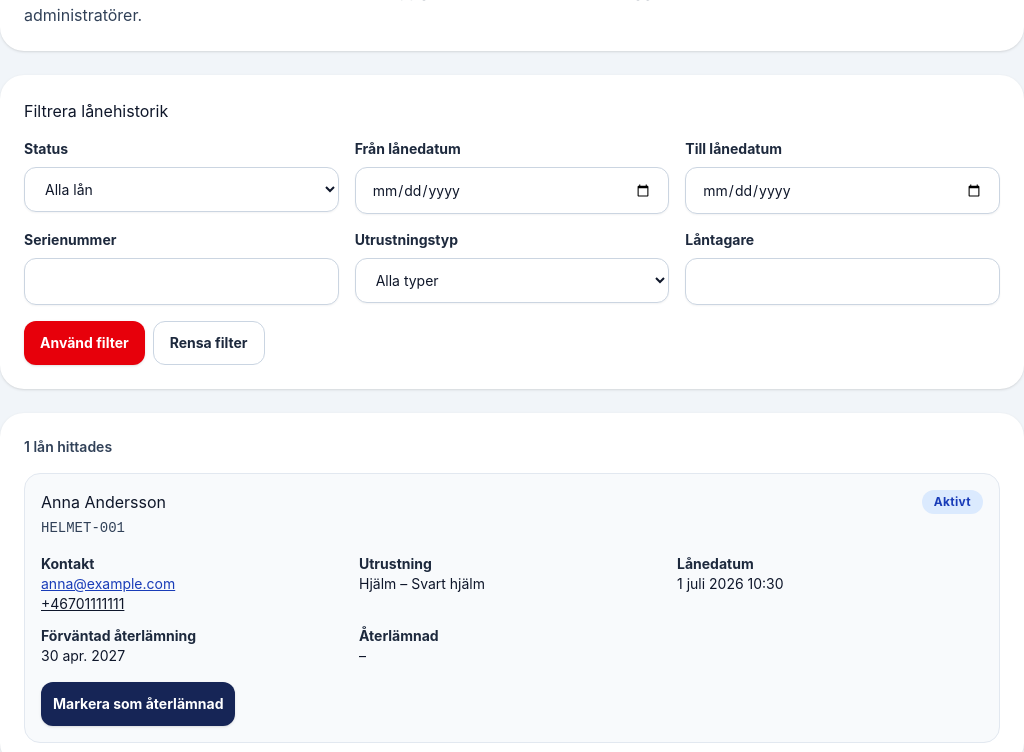
ActiveLoansPage › normalizes return error, closes dialog and focuses alert
(page scrolled)
Expected: the heading "Anna Andersson" is shown, [41, 490, 166, 514]
Click the button "Markera som återlämnad": click(138, 704) [41, 682, 236, 726]
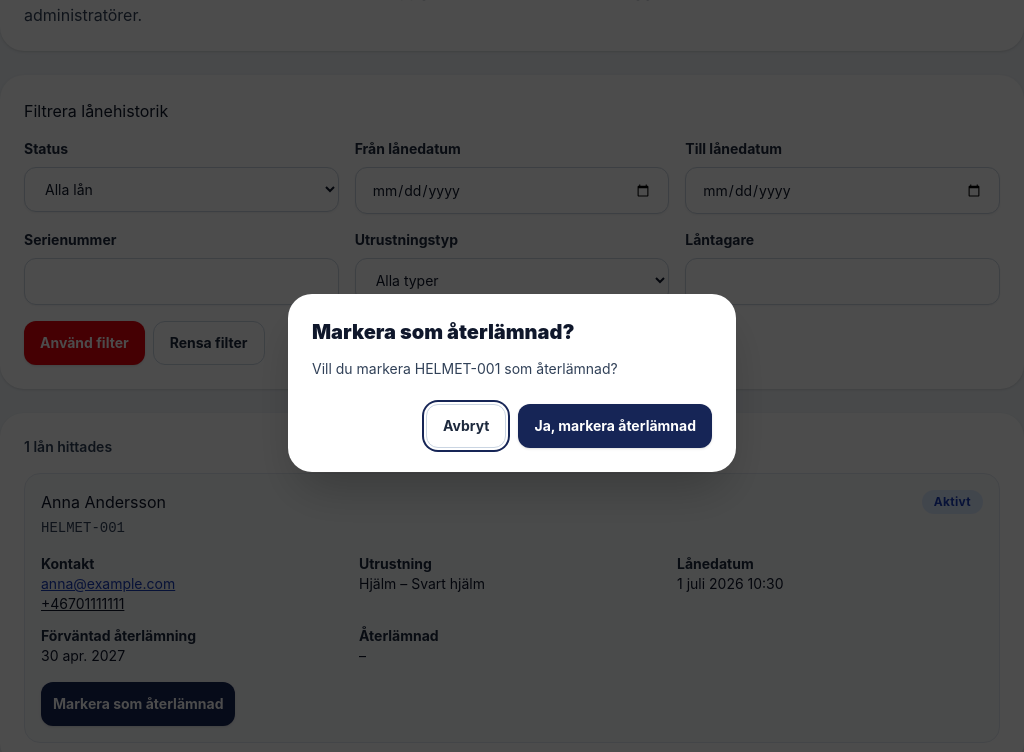
Click the button "Ja, markera återlämnad": click(615, 426) [518, 404, 712, 448]
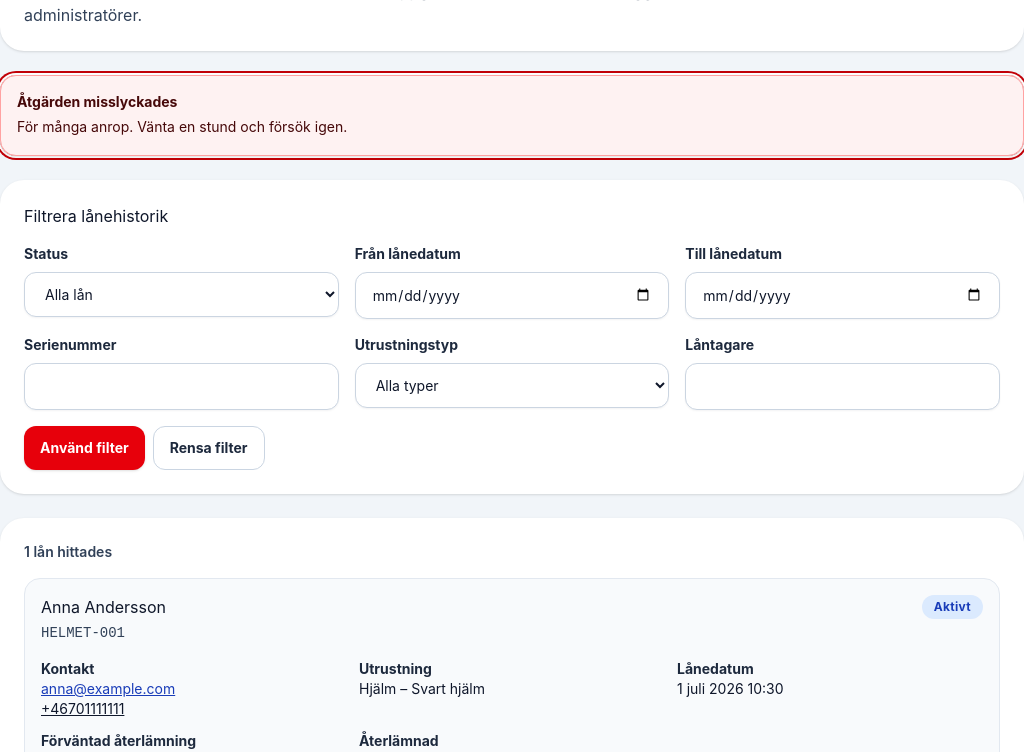
Now the message "Åtgärden misslyckades För många anrop. Vänta en stund och försök igen." is shown, box [0, 75, 1023, 156]
Now the dialog is gone
